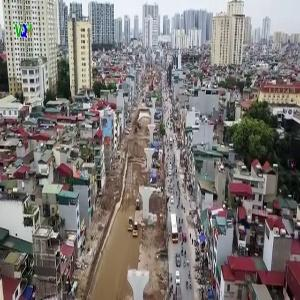drone: (228, 211, 267, 250)
